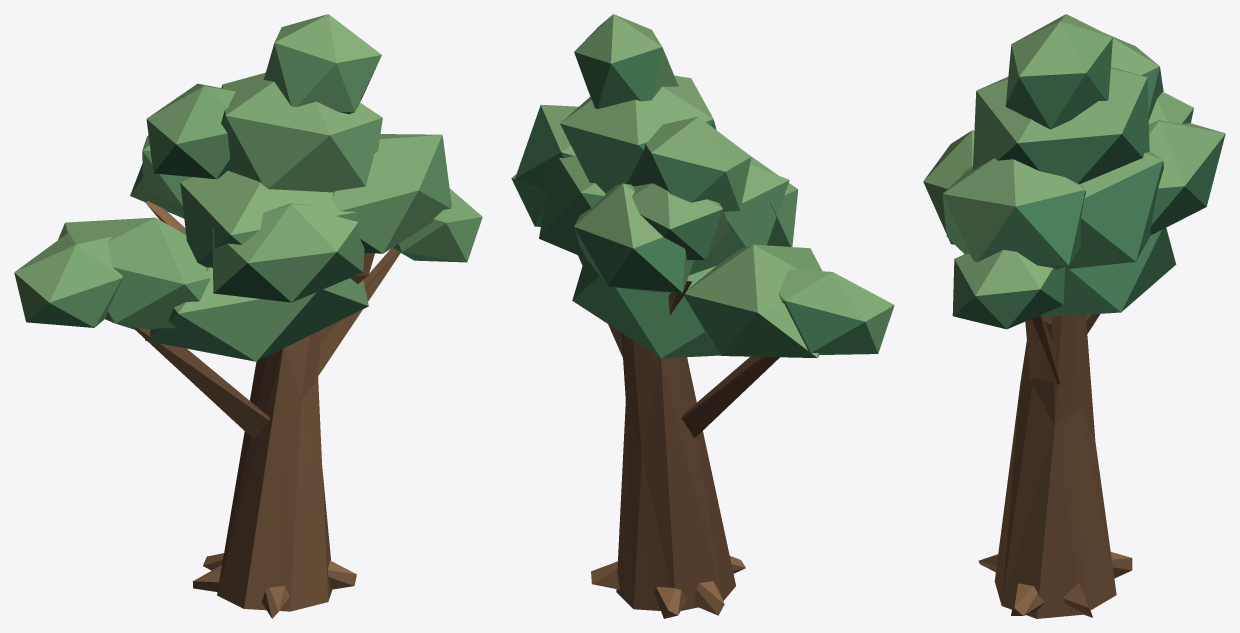
3 renders of one model, left to right at view 1: azimuth 30°, elevation 25°; view 2: azimuth 150°, elevation 25°; view 3: azimuth 270°, elevation 25°, orthographic. The views are drawn at different scales.
Visible parts, largest first — view 1: WK_RegularTree_DeepForest_LOD1_Balanced; view 2: WK_RegularTree_DeepForest_LOD1_Balanced; view 3: WK_RegularTree_DeepForest_LOD1_Balanced.
Boxes of the visible parts, <box> form: WK_RegularTree_DeepForest_LOD1_Balanced: <box>14,14,482,618</box>; WK_RegularTree_DeepForest_LOD1_Balanced: <box>511,14,894,618</box>; WK_RegularTree_DeepForest_LOD1_Balanced: <box>923,14,1225,618</box>.
Size of the model in its own units: 4.7 by 6.39 by 2.9.
